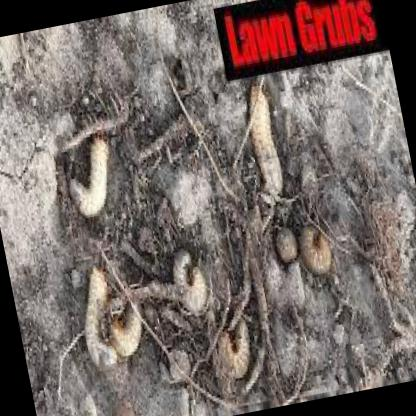root grubs: (69, 133, 108, 215), (252, 88, 282, 191), (173, 248, 208, 315)
